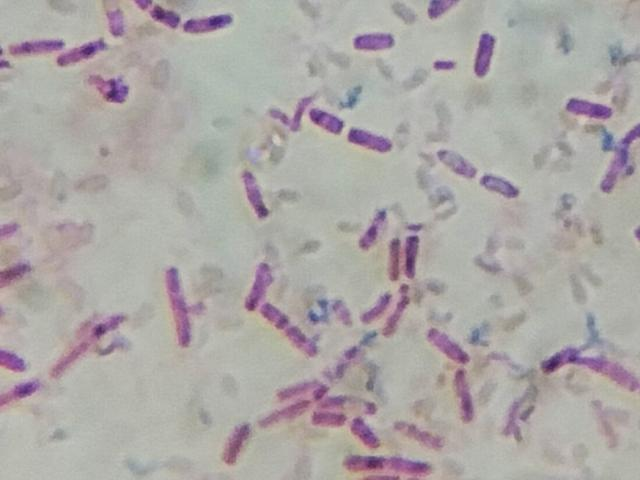E. coli: (545, 347, 640, 401), (56, 313, 129, 362), (158, 263, 198, 351), (603, 119, 640, 200), (259, 307, 317, 357), (345, 452, 446, 477), (235, 159, 271, 224), (433, 142, 477, 190), (475, 165, 524, 208), (88, 67, 142, 105), (446, 370, 480, 430), (345, 116, 389, 162), (336, 337, 384, 378), (559, 93, 617, 126), (305, 97, 349, 138), (219, 425, 254, 471), (425, 327, 465, 367), (322, 392, 383, 418), (241, 262, 275, 307), (475, 33, 505, 83), (265, 397, 307, 431), (61, 43, 118, 67), (352, 30, 400, 58), (361, 202, 390, 248), (353, 285, 389, 322), (389, 290, 416, 338), (182, 15, 234, 38), (11, 33, 65, 54), (345, 413, 377, 447), (421, 0, 460, 26), (402, 229, 423, 277), (153, 6, 185, 37), (0, 375, 35, 403), (101, 0, 130, 30), (386, 235, 403, 285), (0, 335, 25, 366), (0, 210, 19, 246), (431, 55, 461, 77), (0, 256, 26, 281), (276, 376, 313, 393), (311, 412, 335, 426)
